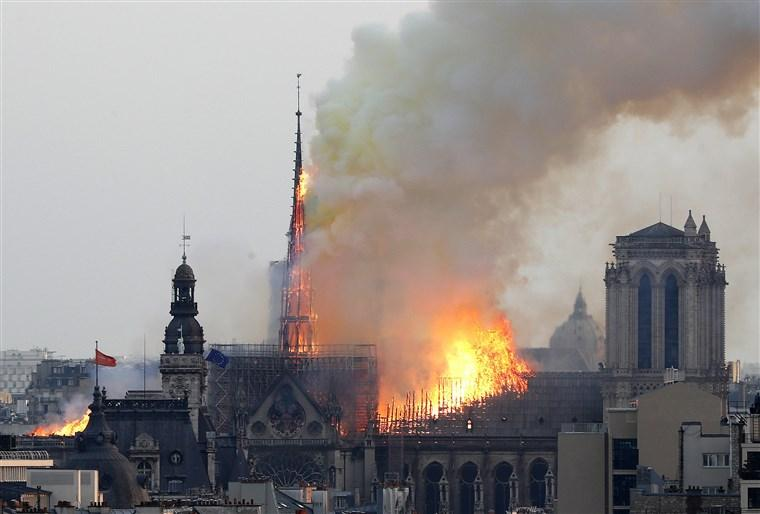Fire: (375, 299, 533, 422), (284, 158, 323, 354), (29, 406, 99, 438)
